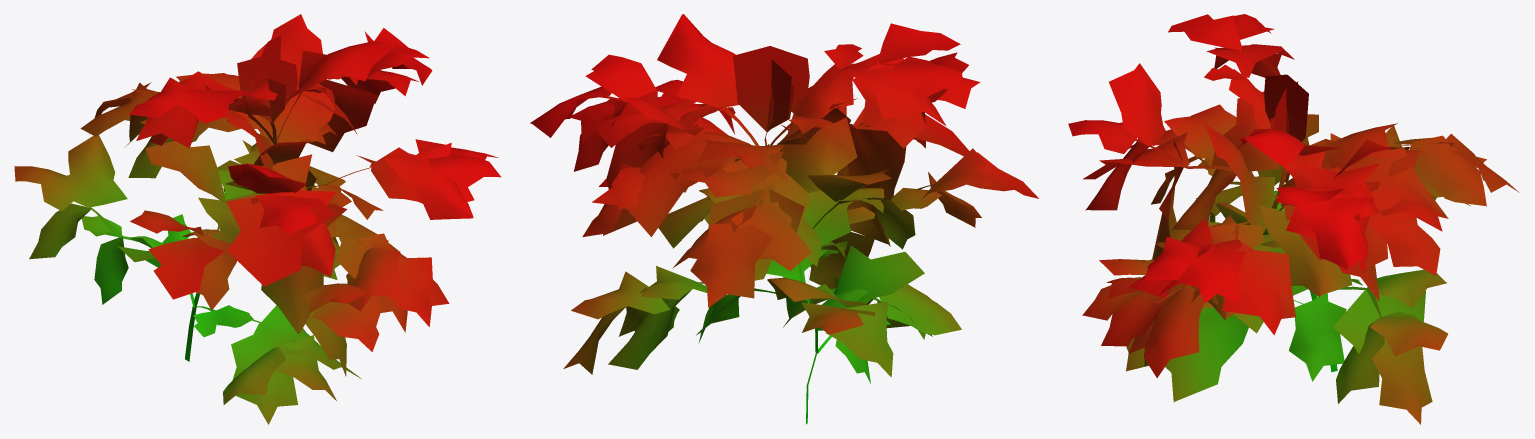
The model's file is Var4_LOD3.fbx.
3 renders of one model, left to right at view 1: azimuth 30°, elevation 25°; view 2: azimuth 150°, elevation 25°; view 3: azimuth 270°, elevation 25°, orthographic. The views are drawn at different scales.
Visible parts, largest first — view 1: _6xx5_Var4_LOD3; view 2: _6xx5_Var4_LOD3; view 3: _6xx5_Var4_LOD3.
Part boxes in pixels (bbox=[...]): _6xx5_Var4_LOD3: bbox=[14, 14, 501, 424]; _6xx5_Var4_LOD3: bbox=[530, 14, 1038, 424]; _6xx5_Var4_LOD3: bbox=[1068, 14, 1519, 424].
Bounding box in the file's own units: 101 × 84.39 × 106.
